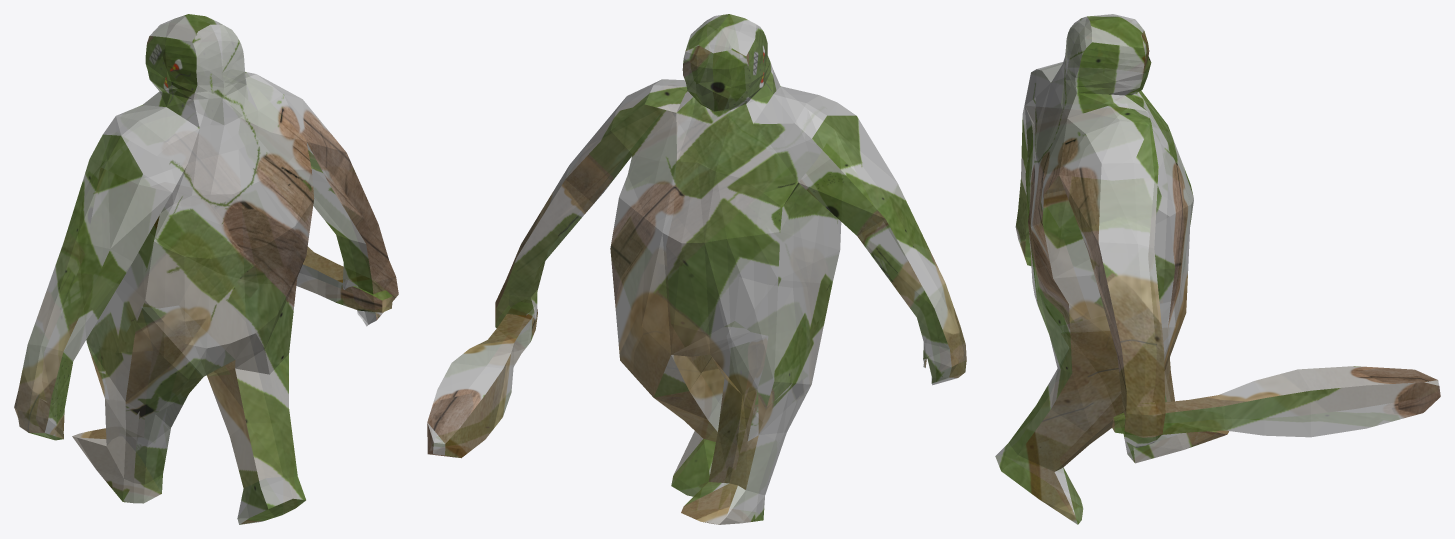
Rendered from Enemigo223.obj.
The picture shows the model from 3 angles, left to right: view 1: azimuth 30°, elevation 25°; view 2: azimuth 150°, elevation 25°; view 3: azimuth 270°, elevation 25°; orthographic projection. The views are drawn at different scales.
Parts seen in each view (by area): view 1: Cube; view 2: Cube; view 3: Cube.
Boxes of the visible parts, <box> form: Cube: <box>14,14,398,524</box>; Cube: <box>427,14,966,524</box>; Cube: <box>995,14,1440,524</box>.
Bounding box in the file's own units: 2.47 × 2.84 × 2.4.
